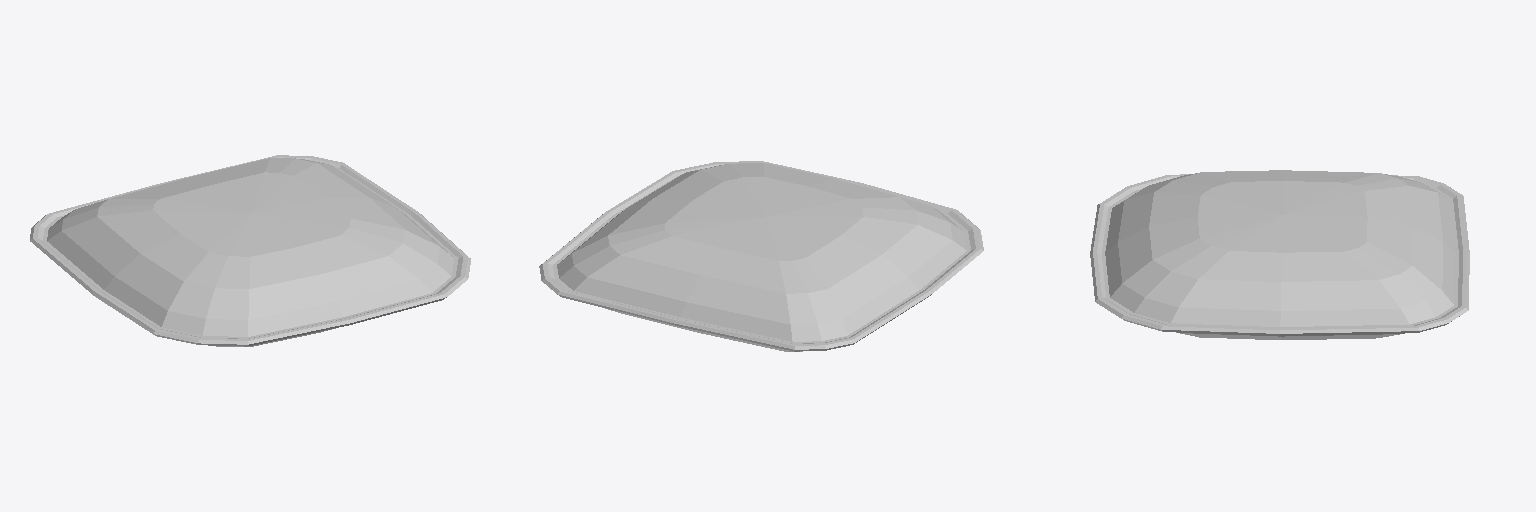
The model's file is Beanbag_Keith.obj.
3 renders of one model, left to right at view 1: azimuth 30°, elevation 25°; view 2: azimuth 150°, elevation 25°; view 3: azimuth 270°, elevation 25°, orthographic.
Parts seen in each view (by area): view 1: Cube_Cube.001; view 2: Cube_Cube.001; view 3: Cube_Cube.001.
Boxes of the visible parts, <box> form: Cube_Cube.001: <box>30,155,470,346</box>; Cube_Cube.001: <box>539,161,983,351</box>; Cube_Cube.001: <box>1090,170,1469,339</box>.
Size of the model in its own units: 2.02 by 0.4848 by 2.02.